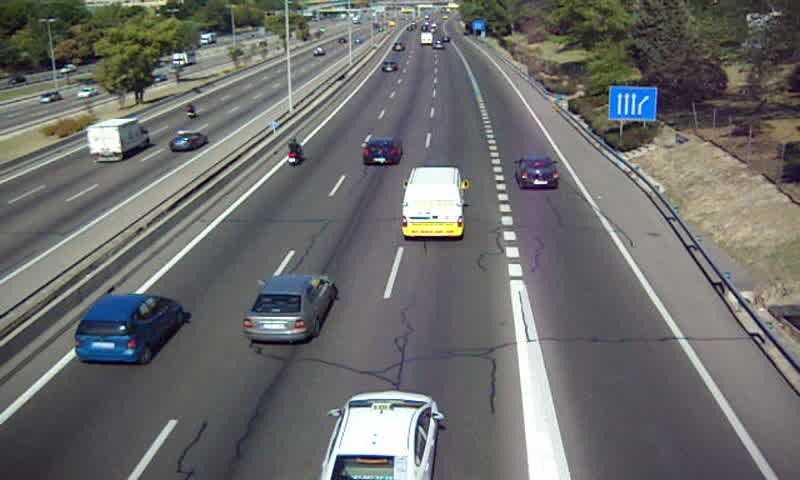car: (322, 391, 437, 480), (74, 294, 182, 364), (241, 274, 337, 344), (514, 156, 562, 190), (360, 138, 404, 168), (379, 60, 399, 75)
motorcycle: (285, 137, 303, 169)
van: (402, 167, 464, 239)
